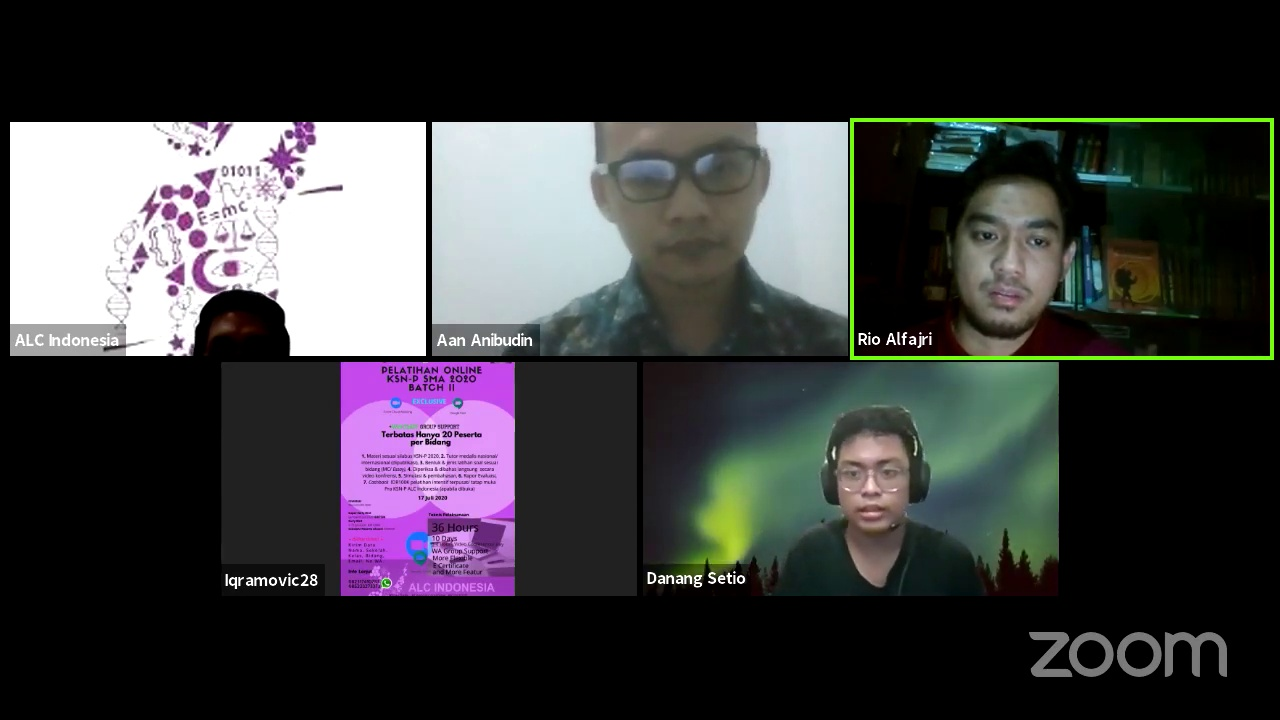Not Distracted: (588, 137, 772, 288), (938, 180, 1074, 333), (820, 416, 929, 529)
